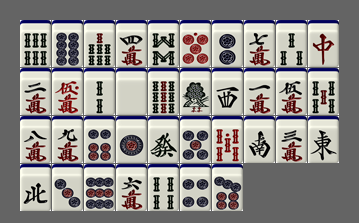0m: (52, 68, 83, 115)
0p: (180, 20, 211, 67)
0s: (212, 116, 243, 163)
1m: (244, 68, 275, 115)
1p: (116, 116, 147, 163)
1s: (180, 68, 211, 115)
1z: (308, 116, 339, 163)
2m: (20, 68, 51, 115)
2p: (212, 20, 243, 67)
2s: (84, 68, 115, 115)
2z: (244, 116, 275, 163)
3m: (276, 116, 307, 163)
3p: (52, 164, 83, 211)
3s: (276, 20, 307, 67)
3z: (212, 68, 243, 115)
4m: (116, 20, 147, 67)
4p: (180, 164, 211, 211)
4s: (148, 164, 179, 211)
4z: (20, 164, 51, 211)
5m: (276, 68, 307, 115)
5p: (180, 116, 211, 163)
5s: (308, 68, 339, 115)
5z: (116, 68, 147, 115)
6m: (116, 164, 147, 211)
6p: (84, 116, 115, 163)
6s: (20, 20, 51, 67)
6z: (148, 116, 179, 163)
7m: (244, 20, 275, 67)
7p: (212, 164, 243, 211)
7s: (84, 20, 115, 67)
7z: (308, 20, 339, 67)
8m: (20, 116, 51, 163)
8p: (52, 20, 83, 67)
8s: (148, 20, 179, 67)
9m: (52, 116, 83, 163)
9p: (84, 164, 115, 211)
9s: (148, 68, 179, 115)
